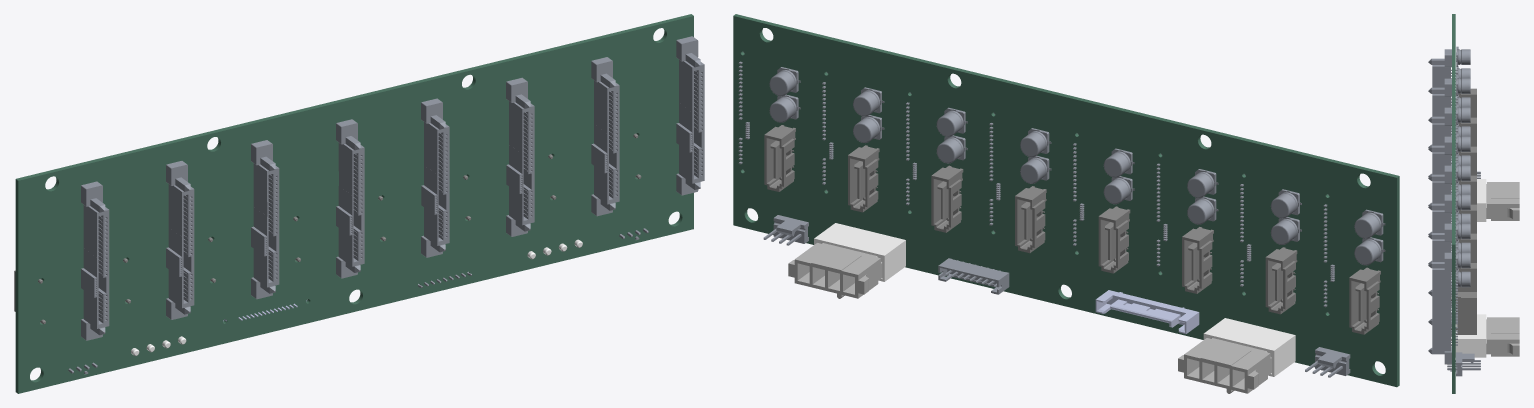
The model's file is backplane-sata-2u-CpSH_R0u.glb.
3 renders of one model, left to right at view 1: azimuth 30°, elevation 25°; view 2: azimuth 150°, elevation 25°; view 3: azimuth 270°, elevation 25°, orthographic. The views are drawn at different scales.
Visible parts, largest first — view 1: SATA_BACKPLANE_RYPCB01331AV12_PCB, solid (×8); view 2: SATA_BACKPLANE_RYPCB01331AV12_PCB, Molex_sata_678005002 (×8), CP_Elec_6.3x5.9 (×16), molex_ide_4_pin (×2), 4_Pin_Molex_Connector_V (×2), SATAP_V_15P_SMT_ASSEM, FanPinHeader_1x04_P2.54mm_Vertical (×2), JST_PH_B9B-PH-K_1x09_P2.00mm_Vertical; view 3: solid (×8), CP_Elec_6.3x5.9 (×16), Molex_sata_678005002 (×8), molex_ide_4_pin (×2), SATA_BACKPLANE_RYPCB01331AV12_PCB, 4_Pin_Molex_Connector_V (×2), FanPinHeader_1x04_P2.54mm_Vertical.
Boxes of the visible parts, x1,y1,x2,y2 form: SATA_BACKPLANE_RYPCB01331AV12_PCB: (15,14,693,393); solid (×8): (81,36,704,340); SATA_BACKPLANE_RYPCB01331AV12_PCB: (733,14,1399,387); Molex_sata_678005002 (×8): (764,125,1380,334); CP_Elec_6.3x5.9 (×16): (769,67,1385,265); molex_ide_4_pin (×2): (788,243,1271,393); 4_Pin_Molex_Connector_V (×2): (814,223,1295,376); SATAP_V_15P_SMT_ASSEM: (1095,290,1199,333); FanPinHeader_1x04_P2.54mm_Vertical (×2): (763,215,1350,377); JST_PH_B9B-PH-K_1x09_P2.00mm_Vertical: (938,258,1009,294); solid (×8): (1428,49,1457,364); CP_Elec_6.3x5.9 (×16): (1456,46,1470,289); Molex_sata_678005002 (×8): (1451,88,1476,334); molex_ide_4_pin (×2): (1486,182,1519,356); SATA_BACKPLANE_RYPCB01331AV12_PCB: (1452,14,1455,393); 4_Pin_Molex_Connector_V (×2): (1451,179,1486,357); FanPinHeader_1x04_P2.54mm_Vertical: (1447,352,1480,376).
Bounding box in the file's own units: 219 × 67.24 × 36.53.
